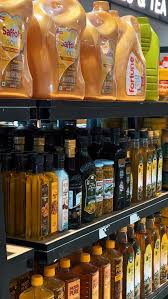saffola: (0, 0, 85, 99), (83, 11, 126, 93), (0, 30, 110, 53)
